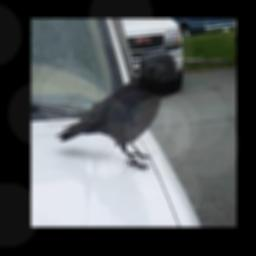Crow: (55, 60, 165, 170)
